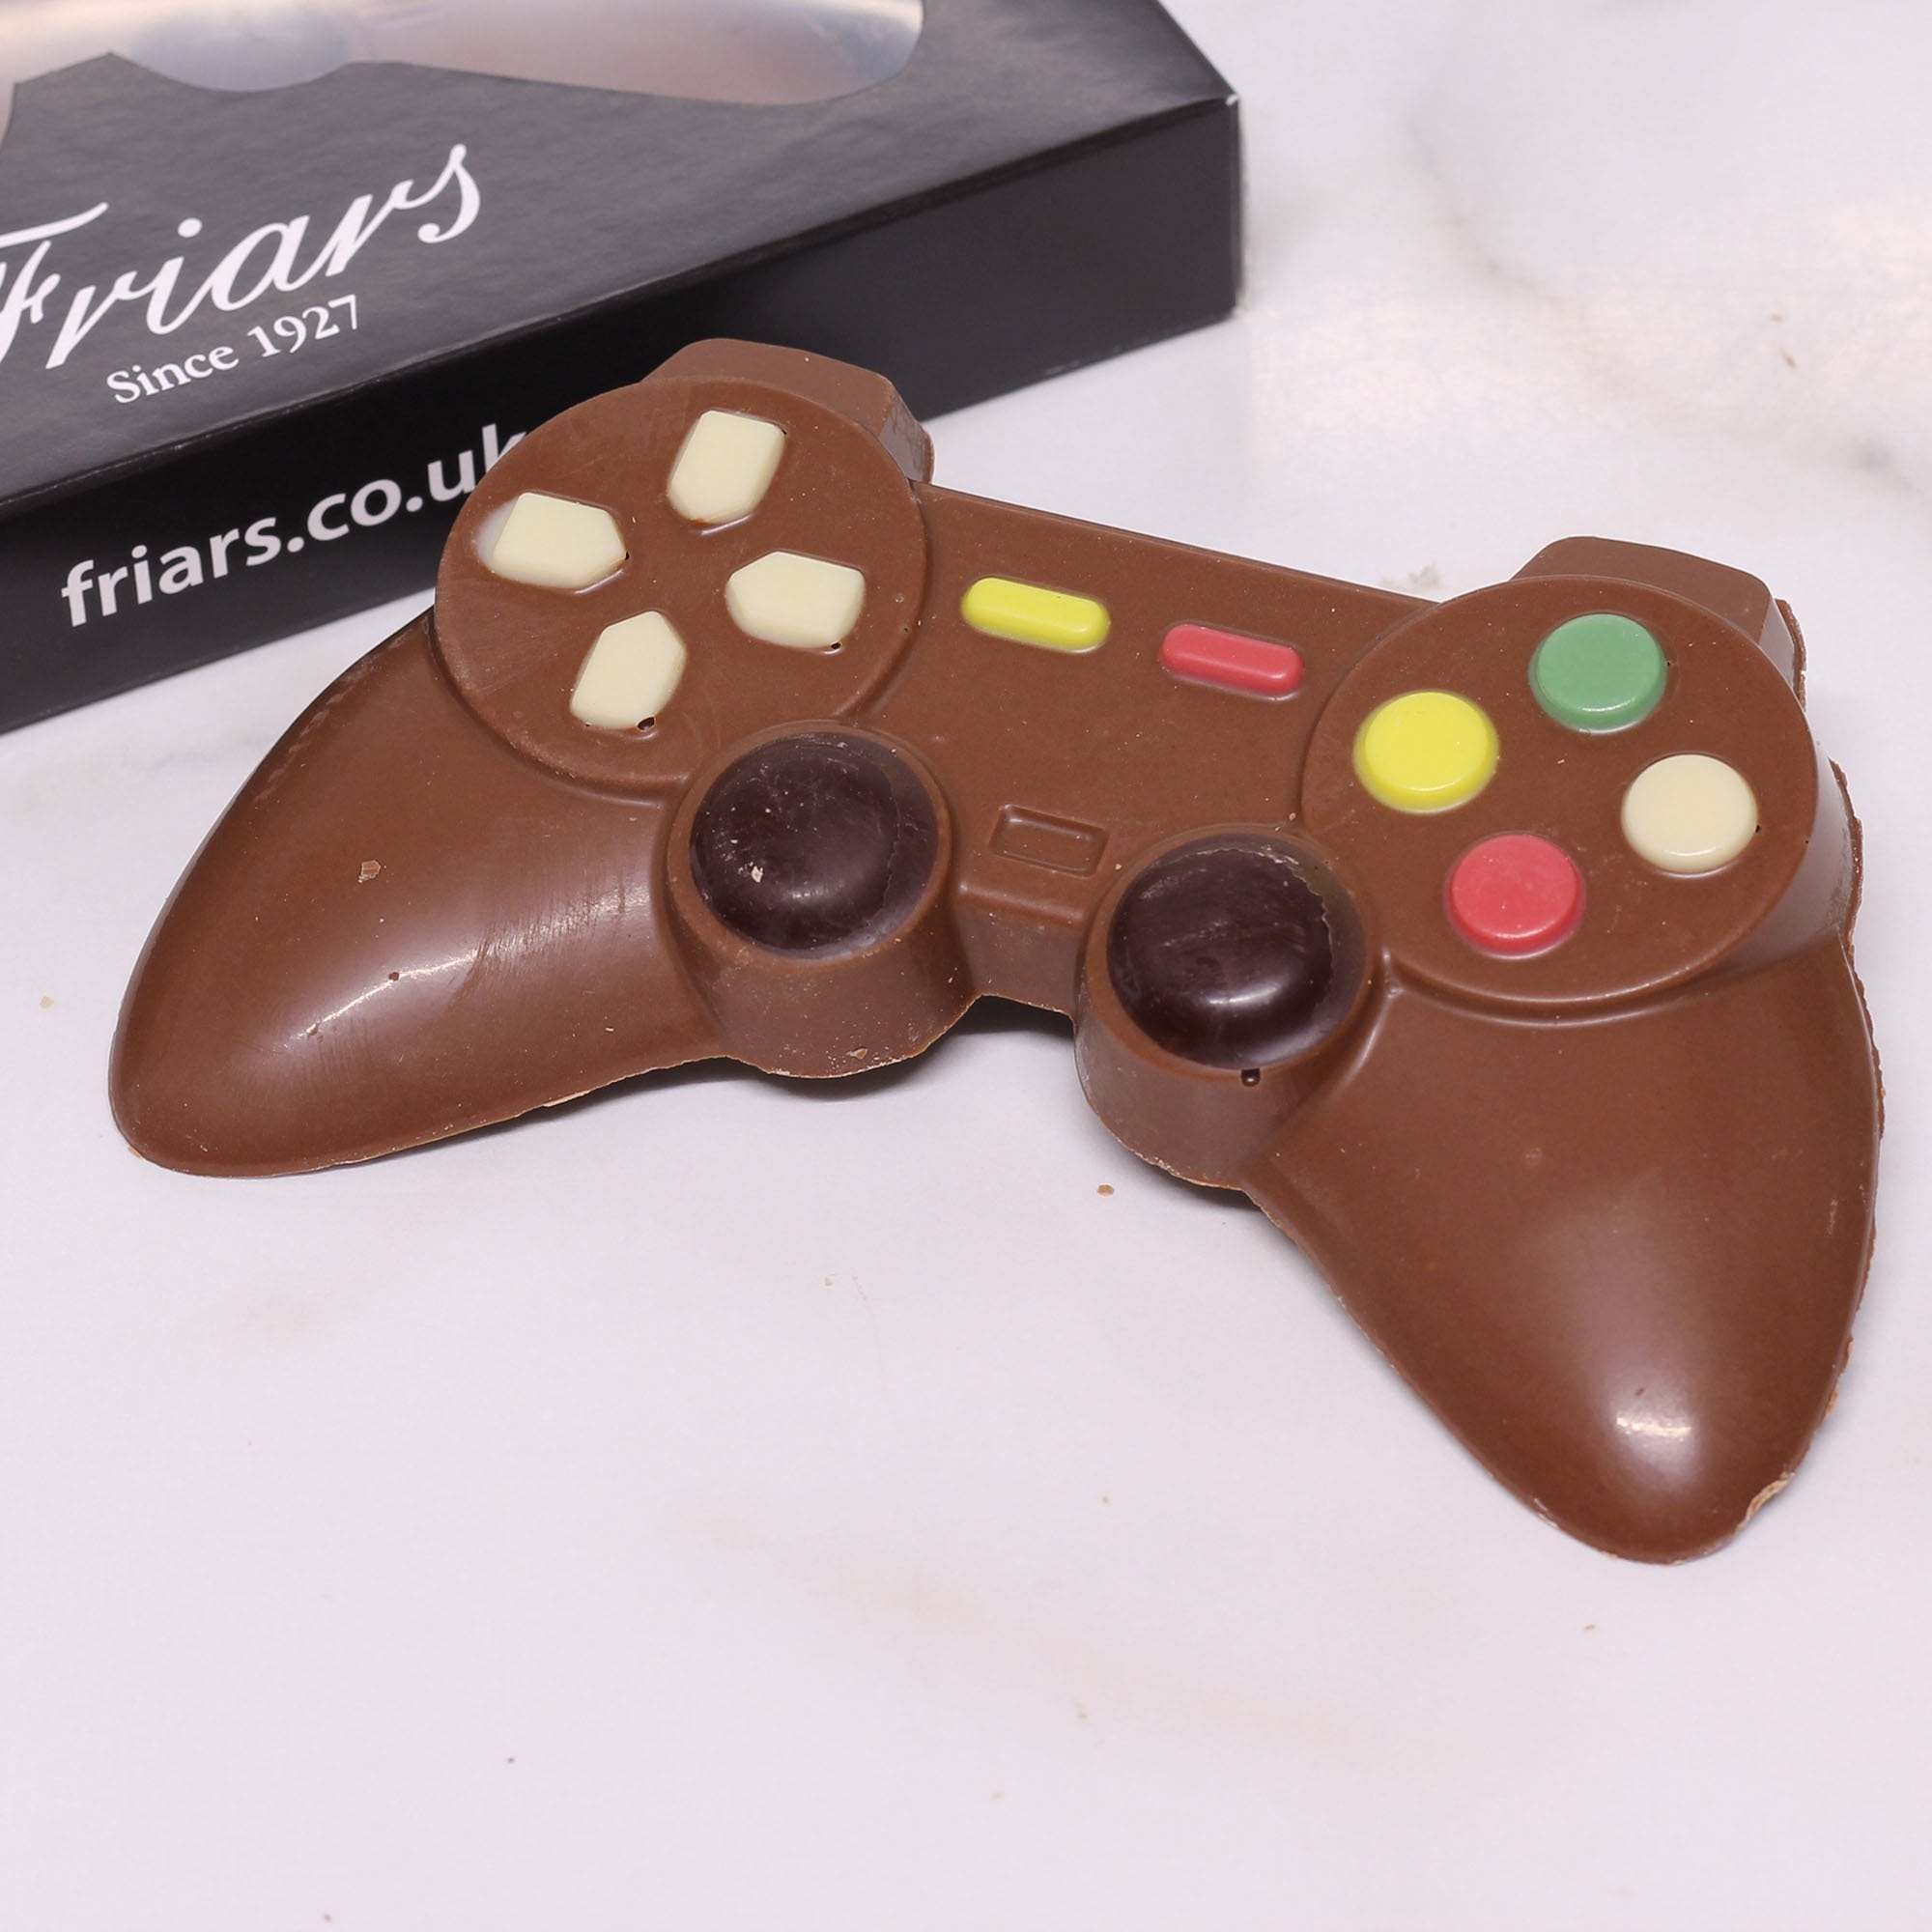controller: (108, 333, 1888, 1566)
